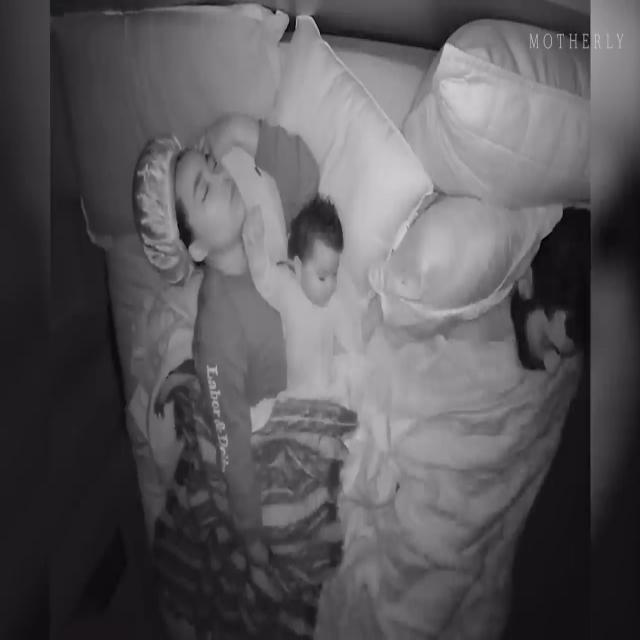baby: (242, 190, 362, 395)
